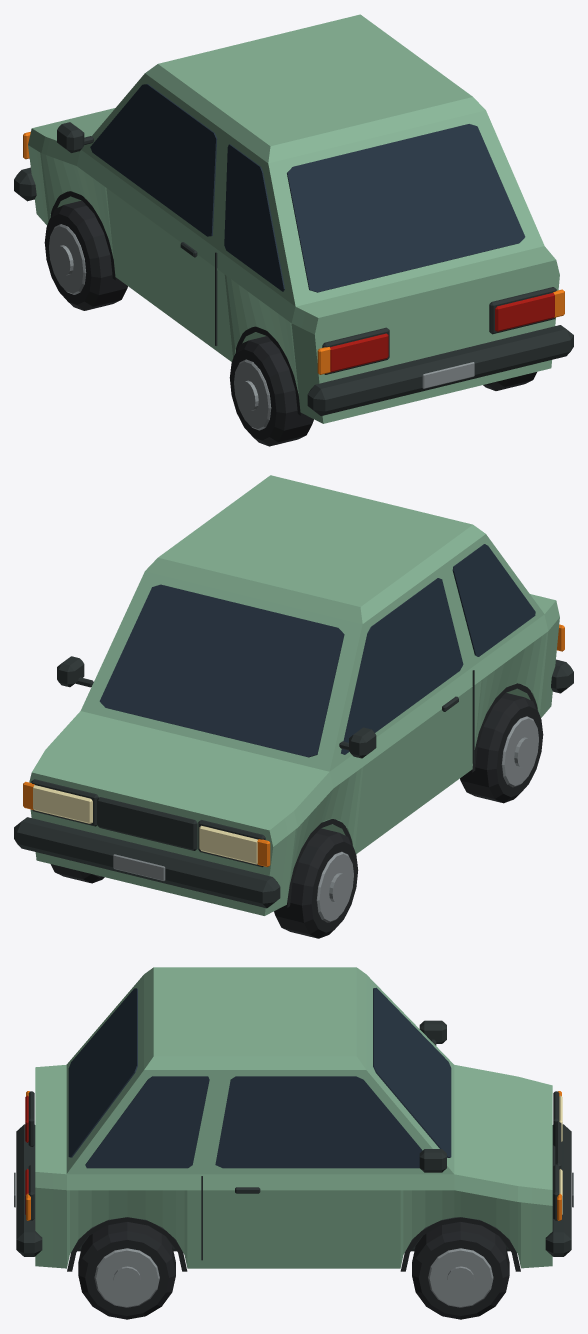
The model's file is 16_Microcar.fbx.
3 views of the same model, one above another, from view 1: azimuth 30°, elevation 25°; view 2: azimuth 150°, elevation 25°; view 3: azimuth 270°, elevation 25° (orthographic). The views are drawn at different scales.
Parts seen in each view (by area): view 1: Raked cabin with chamfered roof.015, Continuous body with open wheel arches.016, Framed rear windshield.011, Side glass -1 pane 1.011, Moulded bumper.031, Side glass -1 pane 0.014, WheelRL_ShapedSidewall.015, WheelFL_ShapedSidewall.015, Tail lamp.031, WheelFL_Rim.015, WheelRL_Rim.015, Tail lamp.030 (+5 smaller); view 2: Continuous body with open wheel arches.016, Raked cabin with chamfered roof.015, Framed opaque windshield.015, Side glass -1 pane 1.011, Moulded bumper.030, Side glass -1 pane 0.014, WheelFL_ShapedSidewall.015, WheelRL_ShapedSidewall.015, Inset radiator grille.015, Headlamp.027, WheelRL_Rim.015, WheelFL_Rim.015 (+7 smaller); view 3: Continuous body with open wheel arches.016, Raked cabin with chamfered roof.015, Side glass 1 pane 1.011, Side glass 1 pane 0.014, Framed opaque windshield.015, Framed rear windshield.011, WheelFR_ShapedSidewall.015, WheelRR_ShapedSidewall.015, WheelFR_Rim.015, WheelRR_Rim.015, Moulded bumper.031, Moulded bumper.030 (+6 smaller).
Boxes of the visible parts, x1,y1,x2,y2 form: Raked cabin with chamfered roof.015: (81, 14, 544, 306); Continuous body with open wheel arches.016: (28, 108, 559, 423); Framed rear windshield.011: (287, 124, 525, 292); Side glass -1 pane 1.011: (90, 84, 217, 236); Moulded bumper.031: (307, 325, 573, 415); Side glass -1 pane 0.014: (224, 144, 284, 291); WheelRL_ShapedSidewall.015: (229, 336, 313, 446); WheelFL_ShapedSidewall.015: (44, 199, 127, 310); Tail lamp.031: (495, 292, 554, 331); WheelFL_Rim.015: (49, 224, 86, 294); WheelRL_Rim.015: (234, 359, 271, 430); Tail lamp.030: (330, 333, 388, 372); Continuous body with open wheel arches.016: (29, 594, 559, 915); Raked cabin with chamfered roof.015: (80, 475, 544, 771); Framed opaque windshield.015: (99, 584, 344, 757); Side glass -1 pane 1.011: (341, 578, 463, 754); Moulded bumper.030: (14, 817, 280, 908); Side glass -1 pane 0.014: (452, 544, 535, 656); WheelFL_ShapedSidewall.015: (274, 828, 358, 938); WheelRL_ShapedSidewall.015: (460, 693, 543, 803); Inset radiator grille.015: (97, 797, 197, 850); Headlamp.027: (33, 785, 92, 823); WheelRL_Rim.015: (501, 716, 538, 787); WheelFL_Rim.015: (316, 851, 353, 922); Continuous body with open wheel arches.016: (35, 1064, 552, 1268); Raked cabin with chamfered roof.015: (66, 967, 454, 1174); Side glass 1 pane 1.011: (215, 1076, 422, 1168); Side glass 1 pane 0.014: (85, 1076, 209, 1168); Framed opaque windshield.015: (373, 987, 451, 1157); Framed rear windshield.011: (68, 988, 137, 1157); WheelFR_ShapedSidewall.015: (412, 1222, 509, 1319); WheelRR_ShapedSidewall.015: (78, 1222, 175, 1319); WheelFR_Rim.015: (428, 1248, 493, 1307); WheelRR_Rim.015: (94, 1248, 159, 1307); Moulded bumper.031: (16, 1124, 42, 1256); Moulded bumper.030: (545, 1124, 571, 1256).
Bounding box in the file's own units: 184 × 159 × 321.
